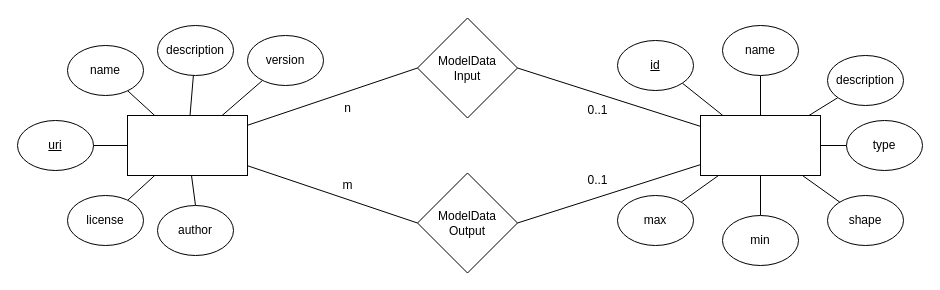
Image size: 940x290. Some labels were removed from this diagram. The shapes that lost their labels are listed below. From the top down, each one's centre as x and y in pixels, then its label:
At (187,145): "ModelData".
At (760,145): "TensorData".
